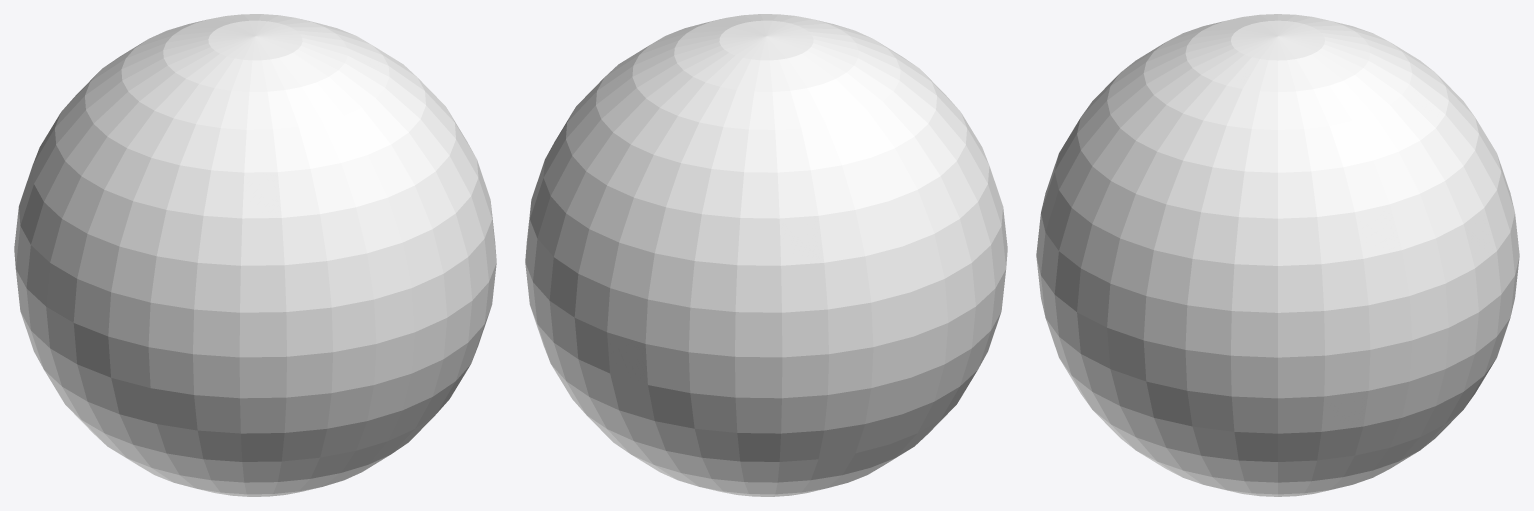
File: ball_lightning.obj
The picture shows the model from 3 angles, left to right: view 1: azimuth 30°, elevation 25°; view 2: azimuth 150°, elevation 25°; view 3: azimuth 270°, elevation 25°; orthographic projection.
Visible parts, largest first — view 1: OuterLayer; view 2: OuterLayer; view 3: OuterLayer.
Boxes of the visible parts, box(x1,y1,x2,y2) form: OuterLayer: box(14, 14, 496, 496); OuterLayer: box(525, 14, 1007, 496); OuterLayer: box(1036, 14, 1519, 496).
Bounding box in the file's own units: 0.6776 × 0.6776 × 0.6776.
